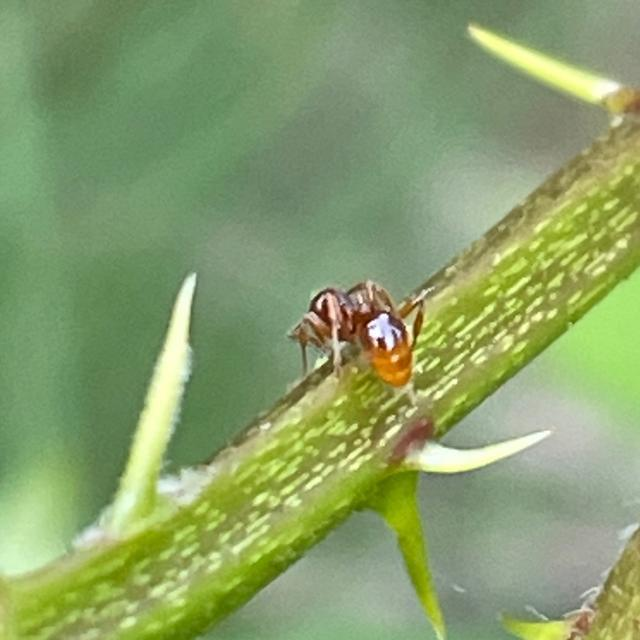Myrmica: (267, 238, 471, 418)
